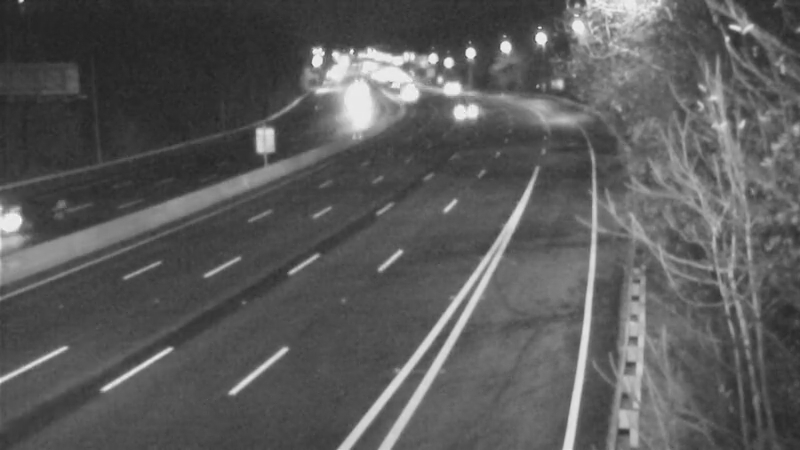vehicle: (1, 178, 70, 258), (431, 64, 481, 114), (382, 71, 432, 121), (442, 82, 492, 132)
